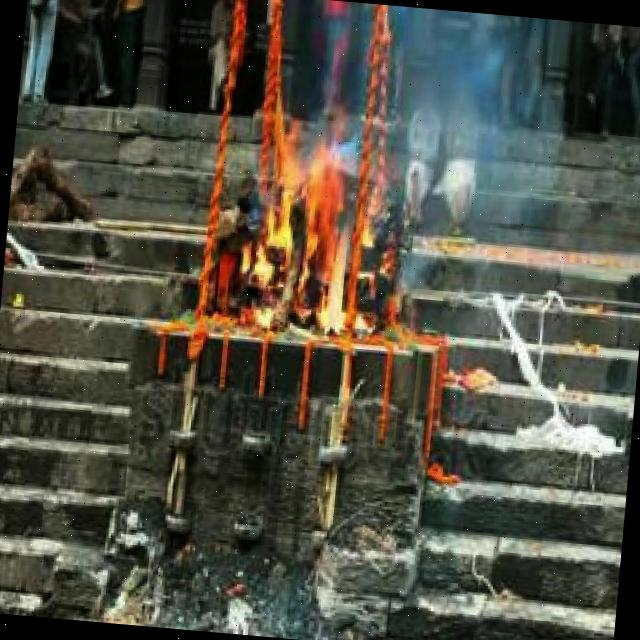fire: (254, 99, 366, 342)
